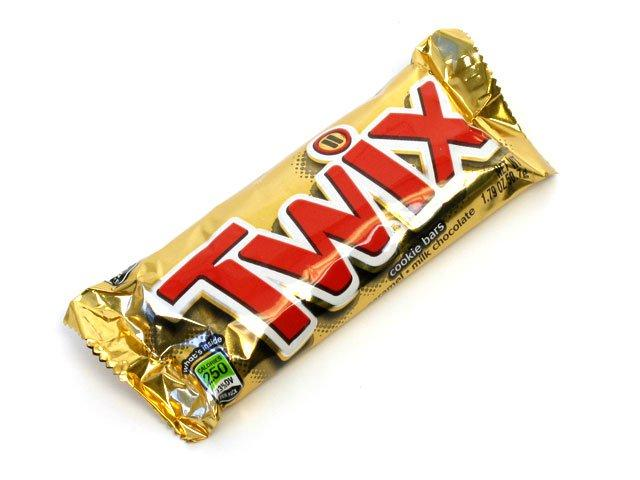twix: (55, 31, 562, 448)
